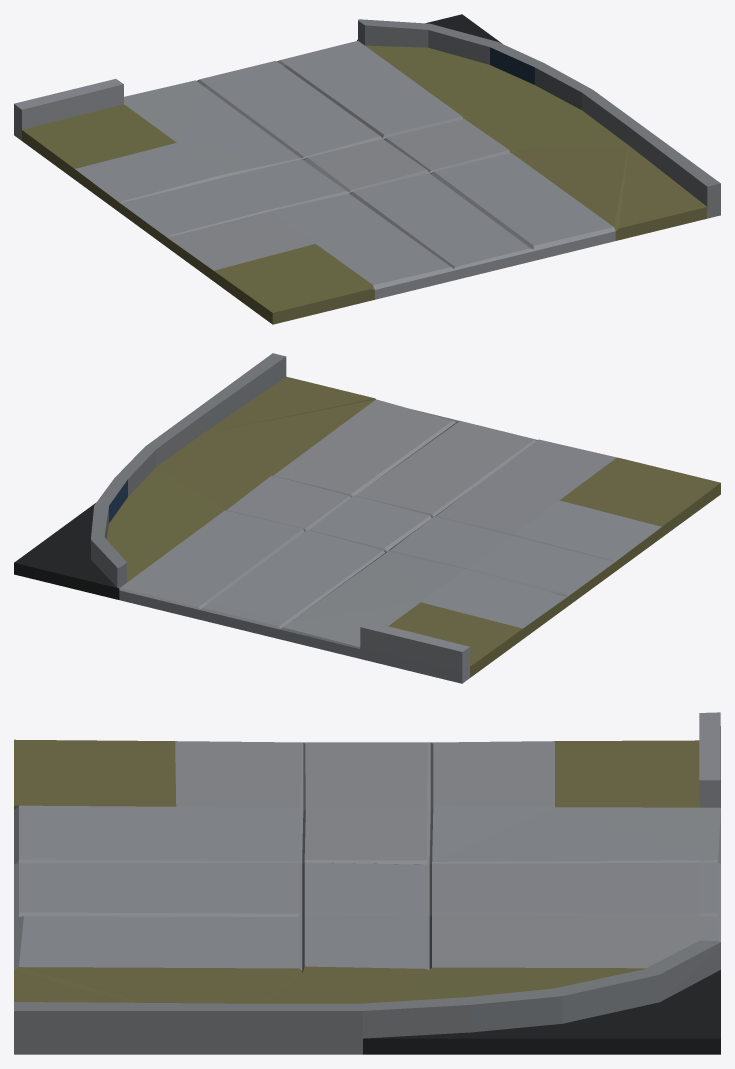
Rendered from Road_018-col.glb.
The picture shows the model from 3 angles, top to bottom: view 1: azimuth 30°, elevation 25°; view 2: azimuth 150°, elevation 25°; view 3: azimuth 270°, elevation 25°; orthographic projection. The views are drawn at different scales.
Parts seen in each view (by area): view 1: Sidewalk_04_B-col; view 2: Sidewalk_04_B-col; view 3: Sidewalk_04_B-col.
Part boxes in pixels (x1=…): Sidewalk_04_B-col: x1=14, y1=14, x2=720, y2=324; Sidewalk_04_B-col: x1=14, y1=353, x2=720, y2=683; Sidewalk_04_B-col: x1=14, y1=712, x2=720, y2=1054.
Bounding box in the file's own units: 2 × 0.1363 × 2.
Materials: 1 (1 with a texture image).
